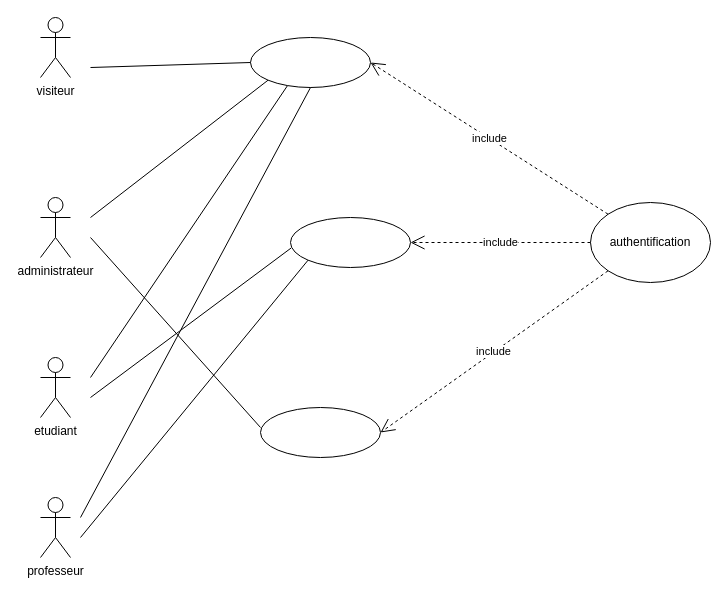
The diagram is 728 pixels wide and 596 high, and some of its shapes have lost their labels. The shapes that lost their labels are listed below. From the top down, each one's centre as x and y in pixels, then its label:
the point at 310,62: consulter un avis
the point at 350,242: donnée un avis
the point at 320,432: supprimée un avis
